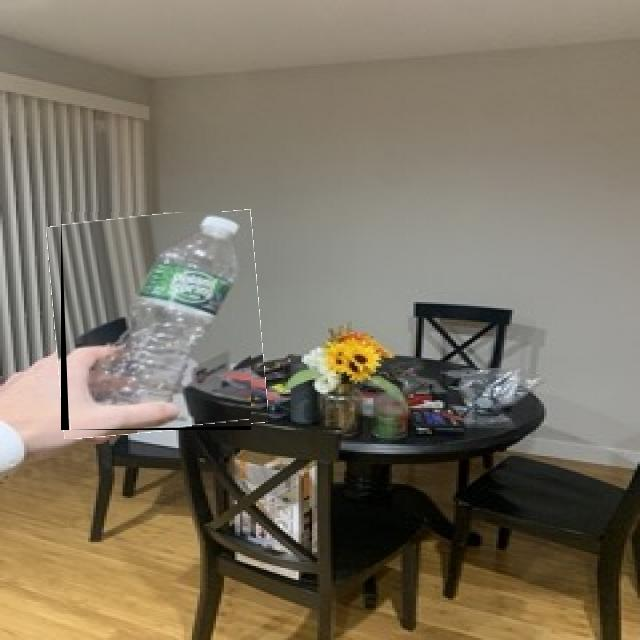water_bottle: (68, 212, 251, 429)
